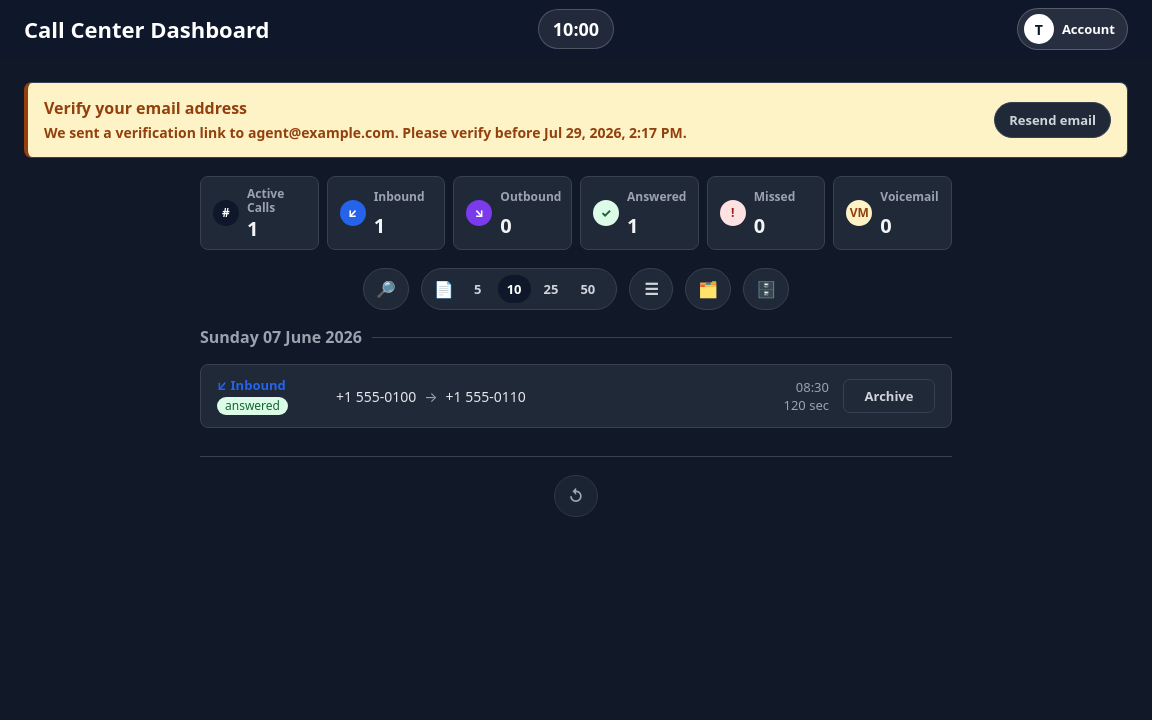
App auth gate › opens and closes the account drawer from the dashboard header
Check: the text "+1 555-0100" is shown, box top-left (336, 387), bottom-right (416, 406)
Click the button with aria-label "Open account settings" at {"x": 1072, "y": 29}, box top-left (1017, 8), bottom-right (1128, 50)
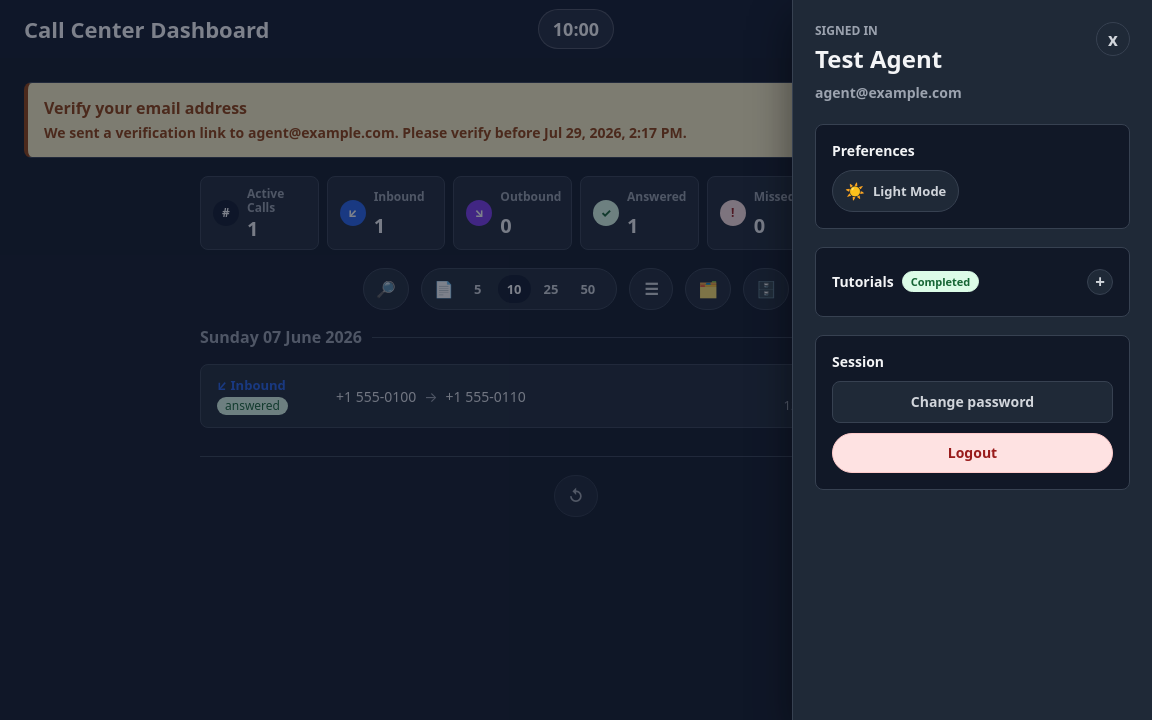
Check: the dialog "Test Agent" is shown, box top-left (792, 0), bottom-right (1151, 719)
Check: the text "agent@example.com" is shown, box top-left (815, 83), bottom-right (962, 102)
Press Escape
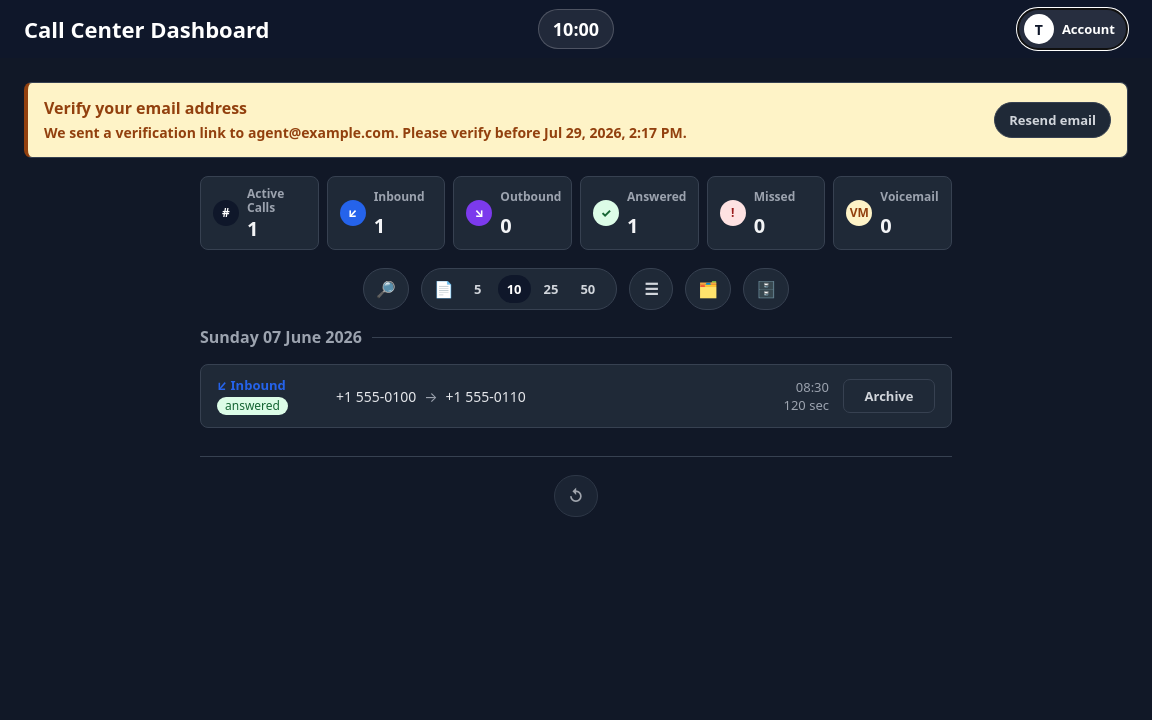
Check: the heading "Test Agent" is gone
Click the button with aria-label "Open account settings" at {"x": 1072, "y": 29}, box top-left (1017, 8), bottom-right (1128, 50)
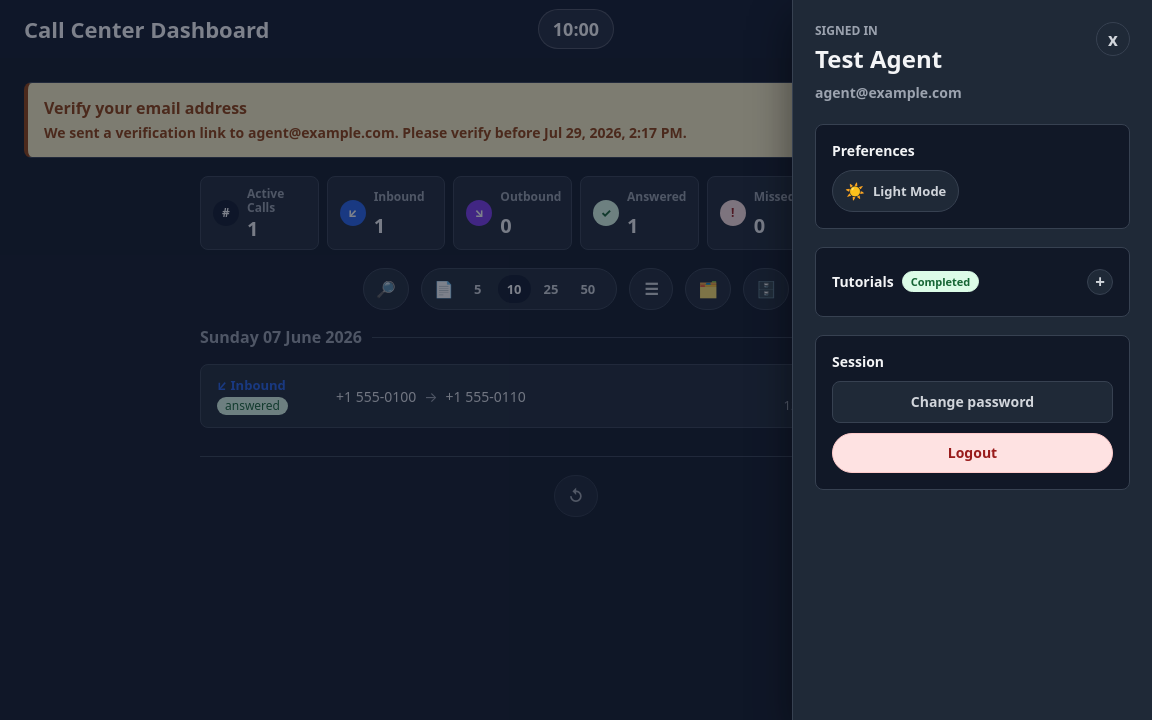
Click the button named "Dismiss account settings" at {"x": 576, "y": 360}, box top-left (0, 0), bottom-right (1151, 719)
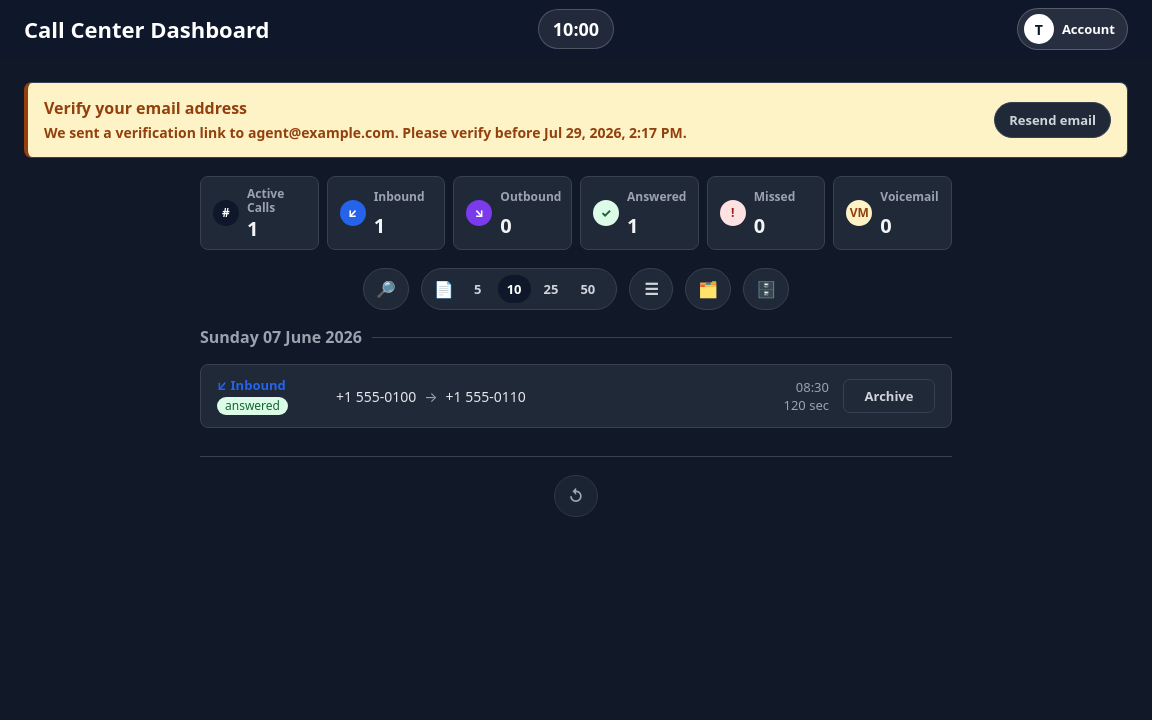
Check: the heading "Test Agent" is gone
Click the button with aria-label "Open account settings" at {"x": 1072, "y": 29}, box top-left (1017, 8), bottom-right (1128, 50)
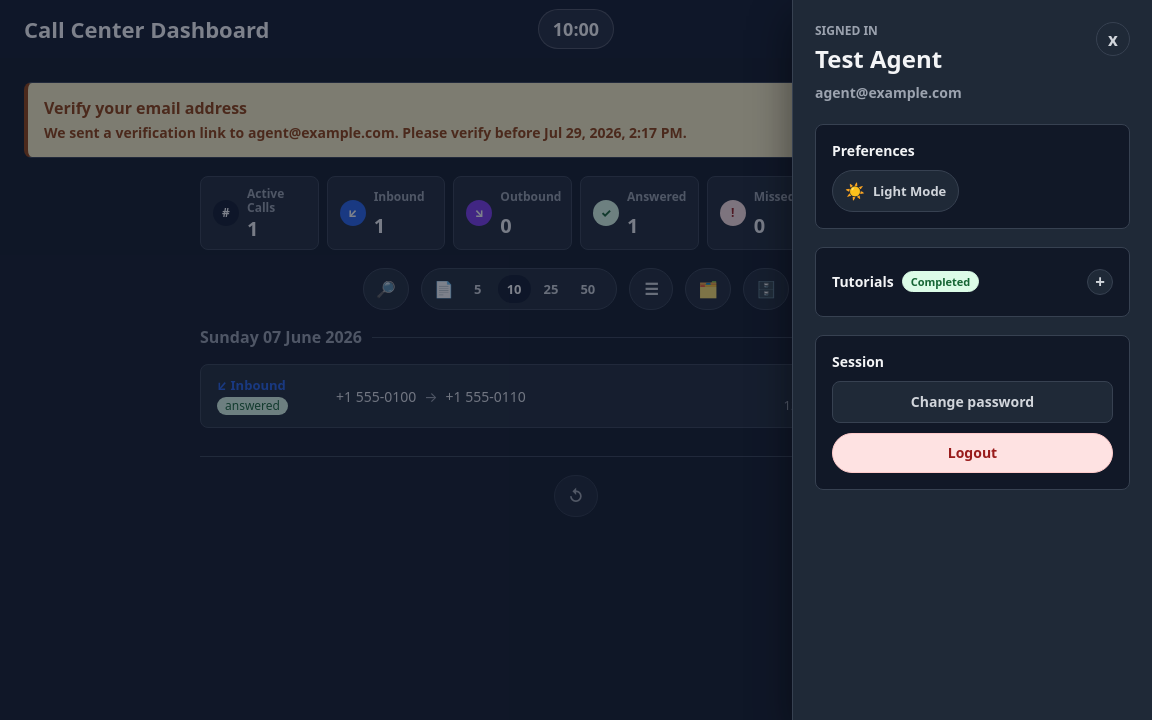
Click the button named "Close account settings" at {"x": 1113, "y": 39}, box top-left (1096, 22), bottom-right (1130, 56)
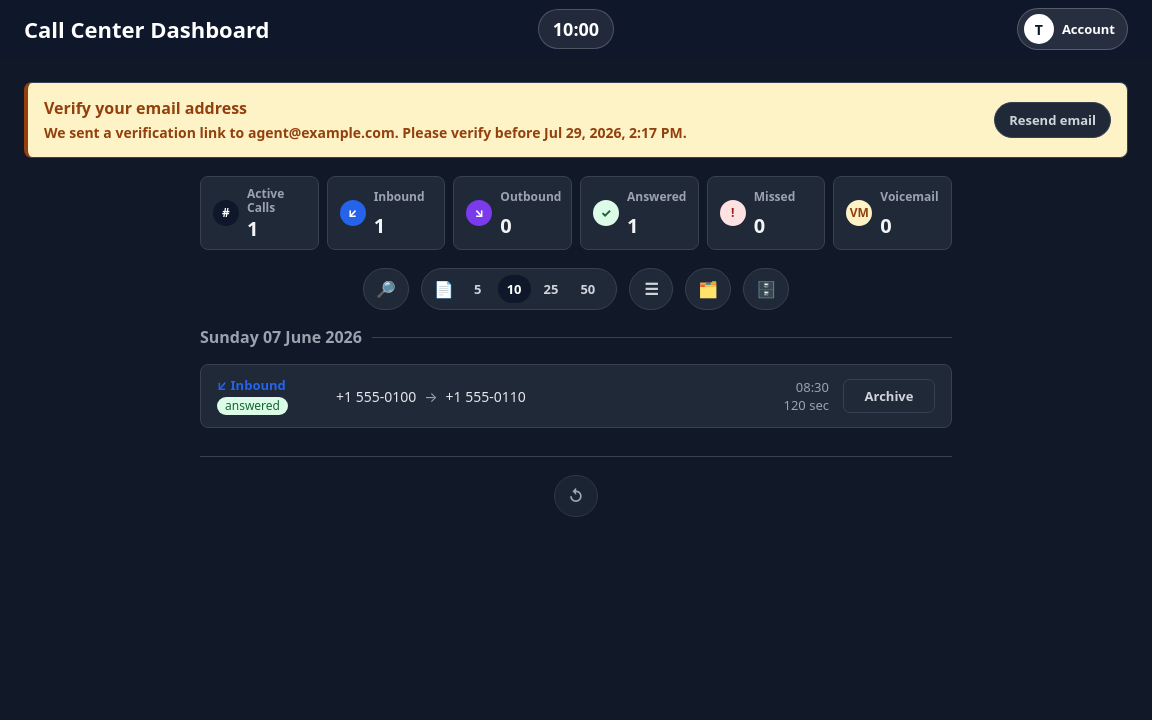
Check: the heading "Test Agent" is gone
